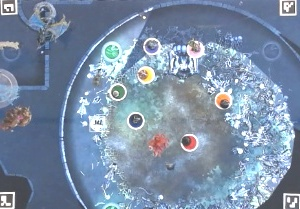blue: (127, 111, 149, 131)
green: (108, 81, 129, 100)
orange: (213, 91, 234, 111)
pink: (186, 37, 205, 58)
red: (179, 131, 200, 154)
violet: (143, 35, 165, 56)
yellow: (136, 63, 156, 85)
